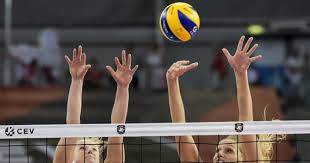ball: (158, 1, 201, 43)
